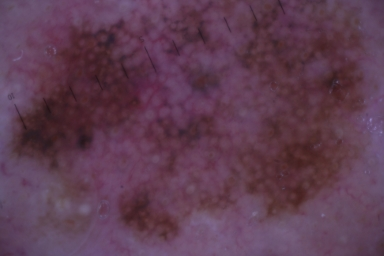nevus: (11, 1, 364, 242)
